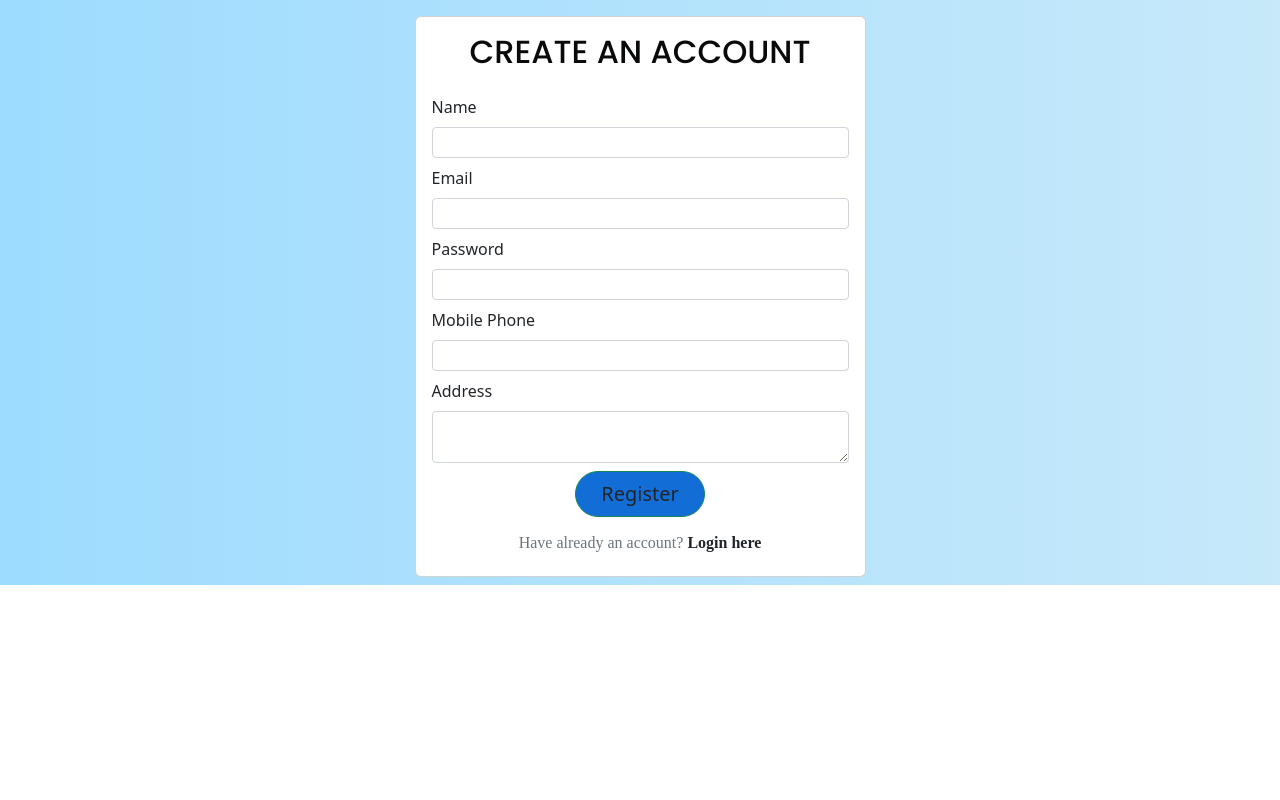
Test case: submits valid data and shows a success message
Type "Anna Kovacs" into the field labelled "Name".
click(640, 143); type("Anna Kovacs")  # box left=432, top=127, right=848, bottom=158
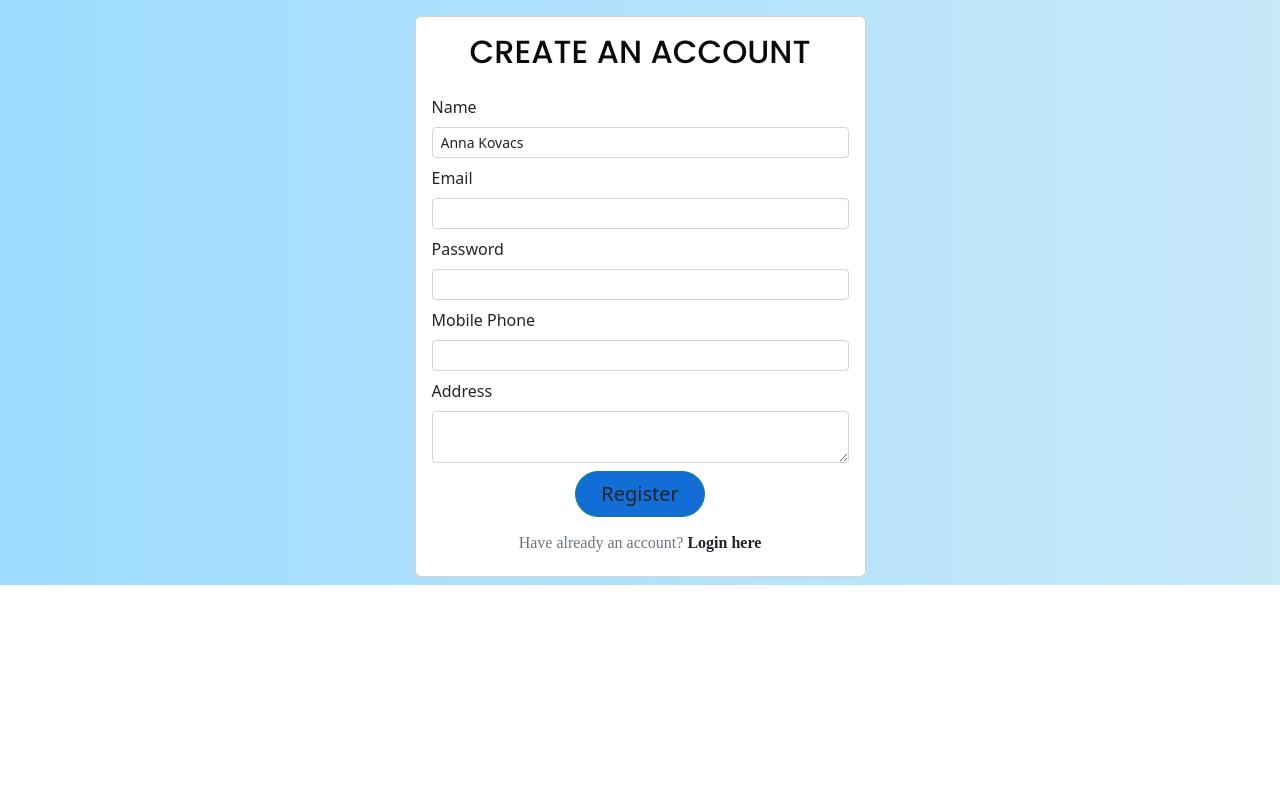
Type "anna@example.com" into the field labelled "Email".
click(640, 214); type("anna@example.com")  # box left=432, top=198, right=848, bottom=229
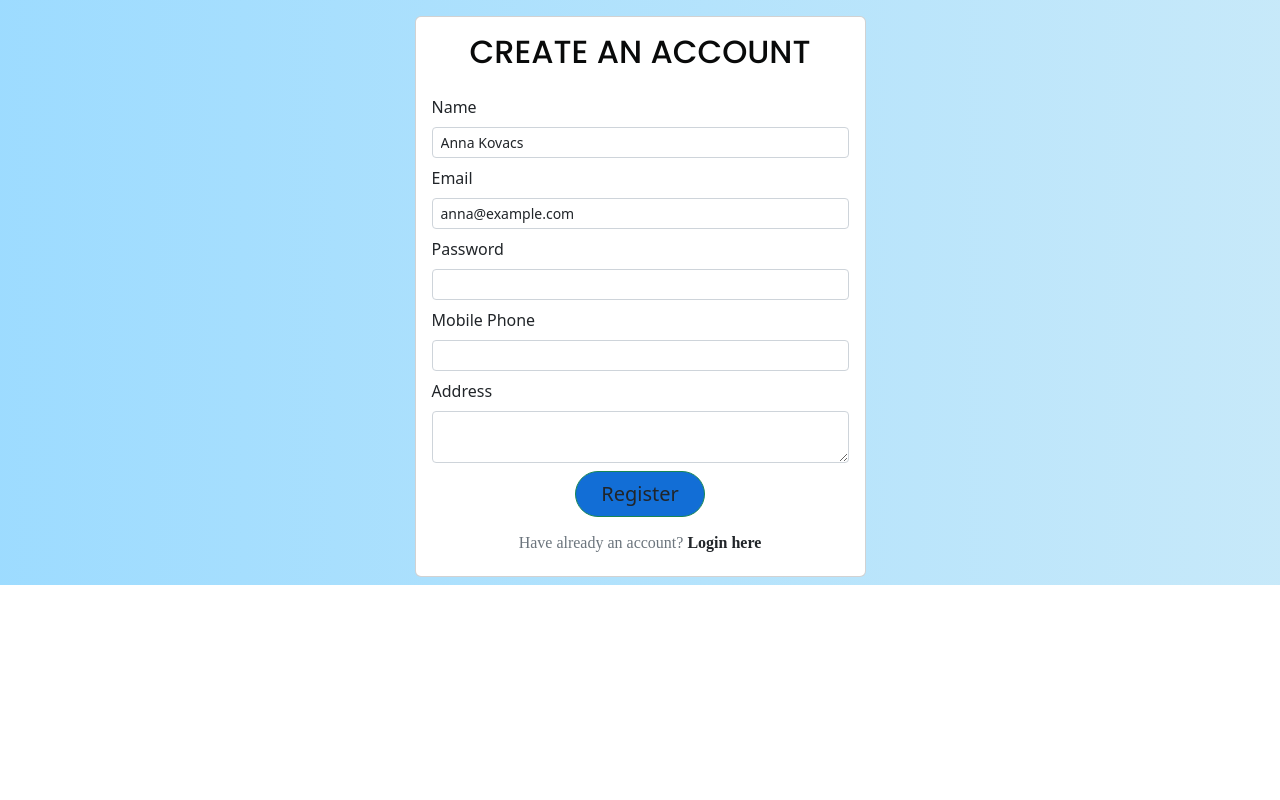
Type "Secret123!" into the password field labelled "Password".
click(640, 285); type("Secret123!")  # box left=432, top=269, right=848, bottom=300
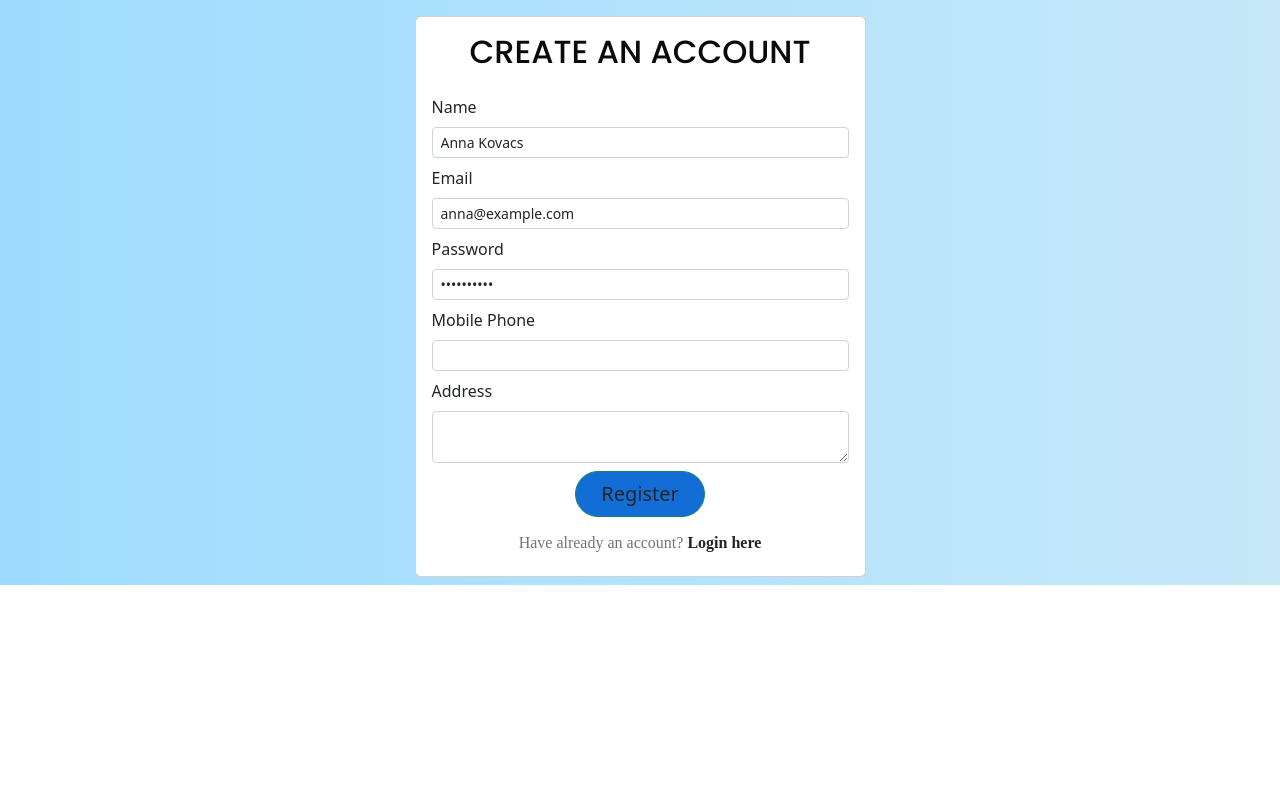
Type "36301234567" into the 3rd field.
click(640, 356); type("36301234567")  # box left=432, top=340, right=848, bottom=371
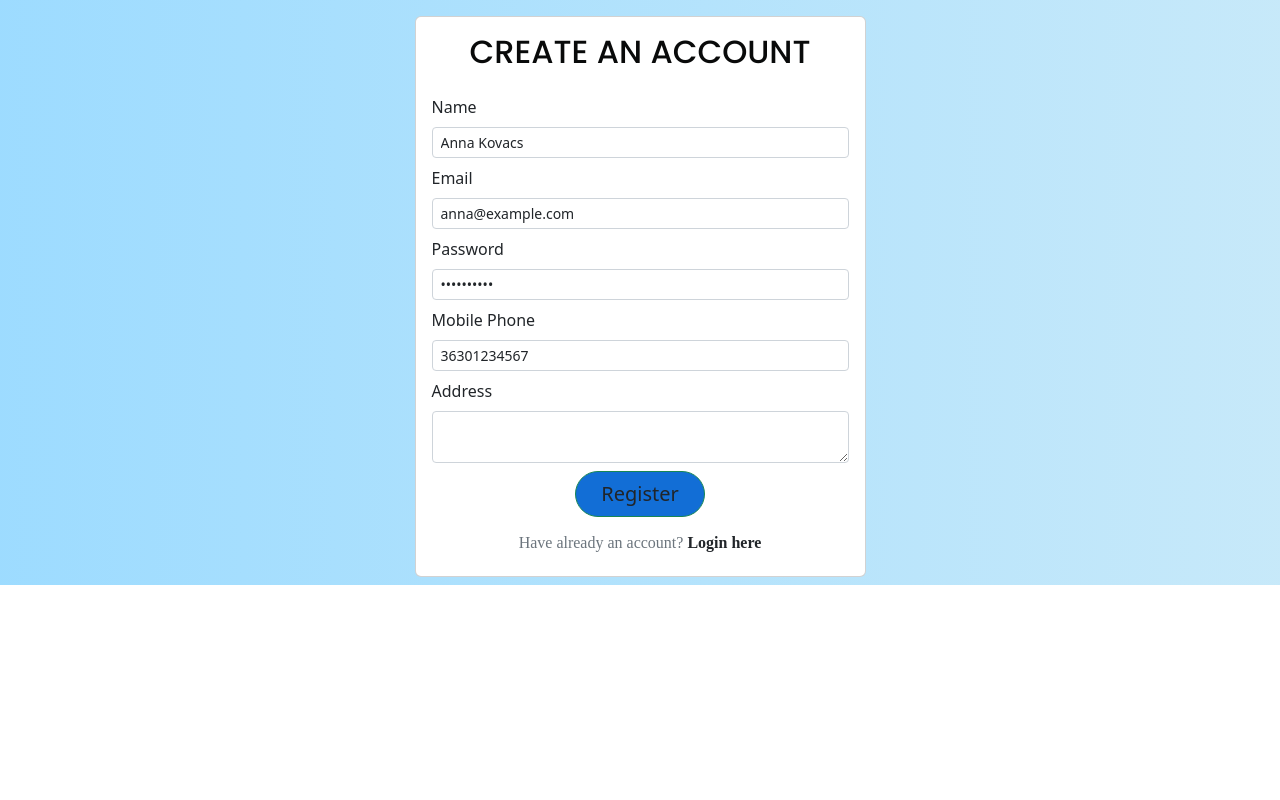
Type "Budapest" into the text box.
click(640, 437); type("Budapest")  # box left=432, top=411, right=848, bottom=463
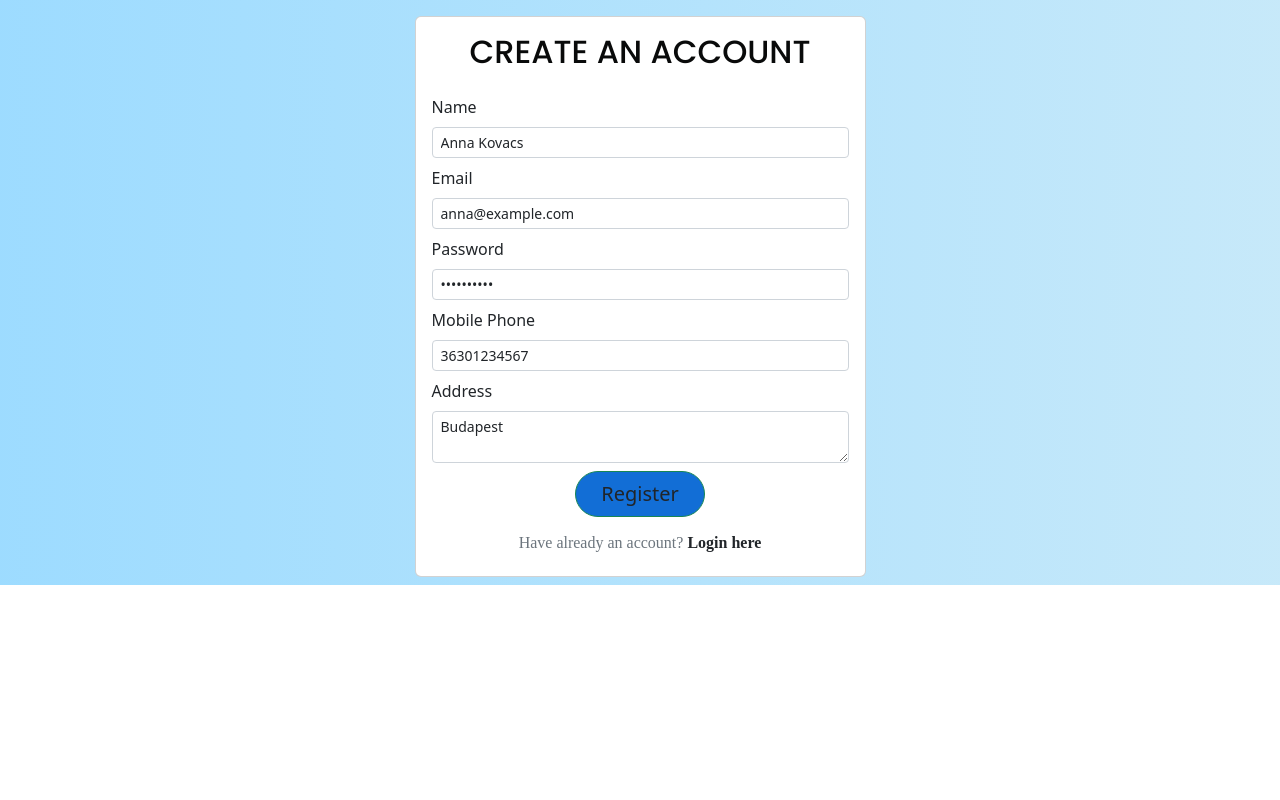
Click the button "Register".
click(640, 494)  # box left=575, top=471, right=705, bottom=517
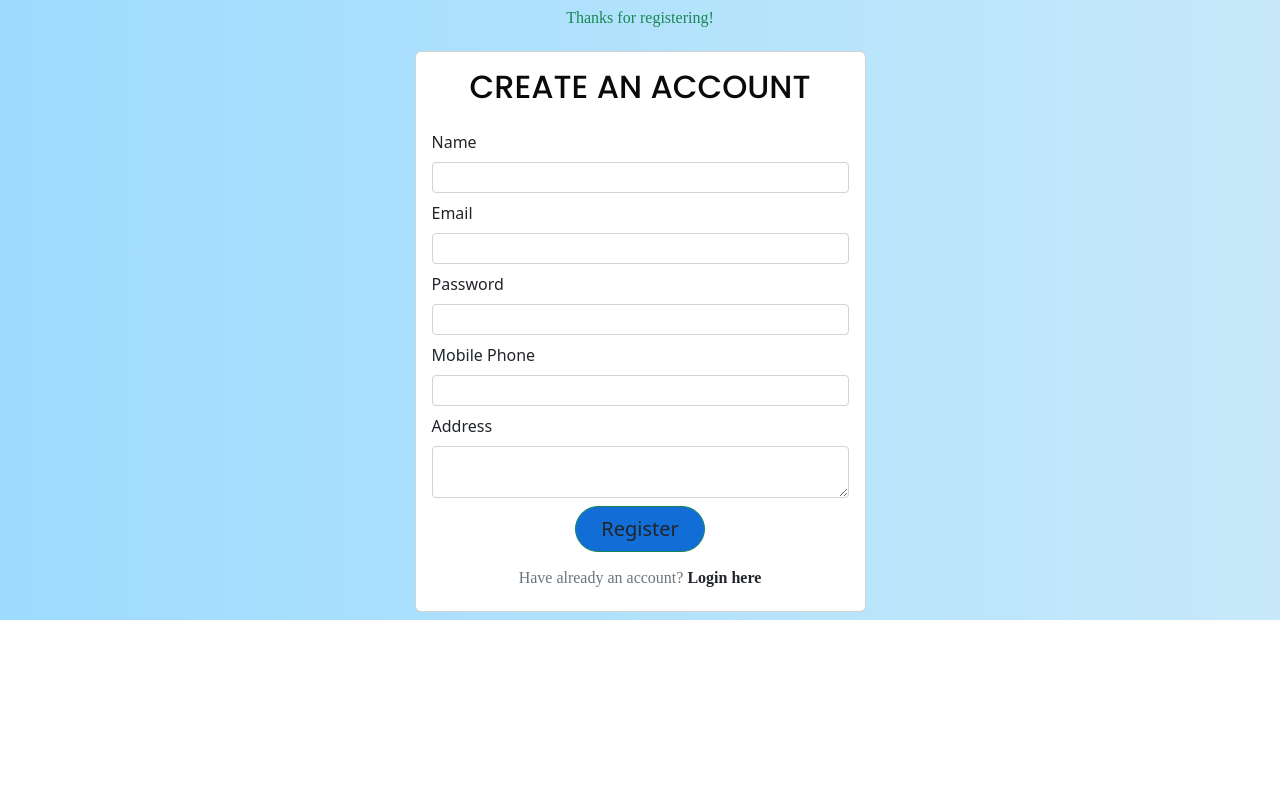
Result: the text "Thanks for registering!" is shown at left=566, top=9, right=714, bottom=26
